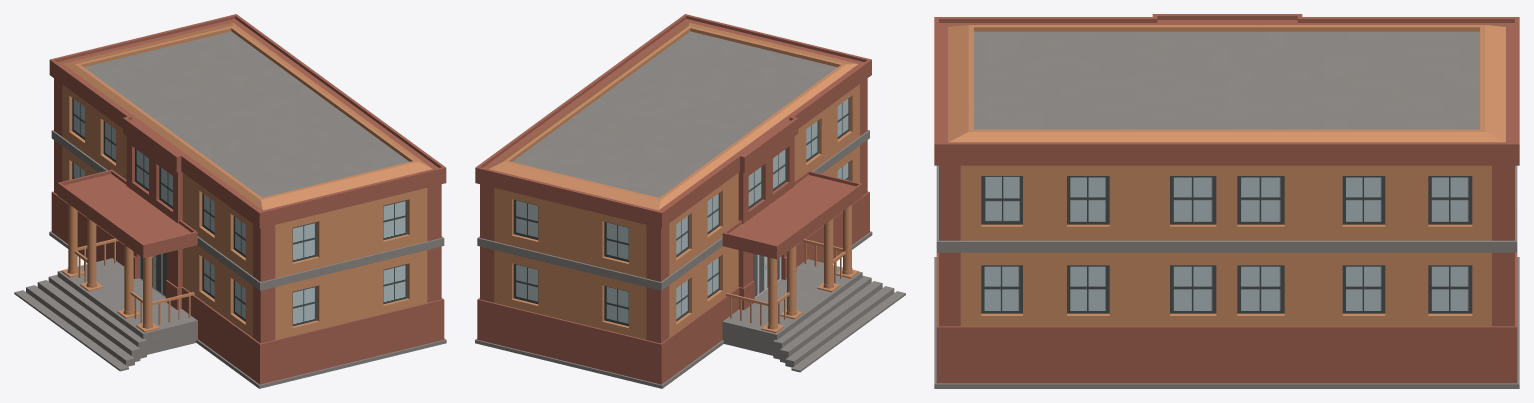
File: school.fbx
The picture shows the model from 3 angles, left to right: view 1: azimuth 30°, elevation 25°; view 2: azimuth 150°, elevation 25°; view 3: azimuth 270°, elevation 25°; orthographic projection. The views are drawn at different scales.
Parts seen in each view (by area): view 1: sptp_building_31; view 2: sptp_building_31; view 3: sptp_building_31.
Part boxes in pixels (x1,y1,x2,y2): sptp_building_31: (14,14,446,388); sptp_building_31: (475,14,905,388); sptp_building_31: (934,14,1519,388).
Bounding box in the file's own units: 1222 × 754 × 1625.
Materials: 1 (1 with a texture image).
